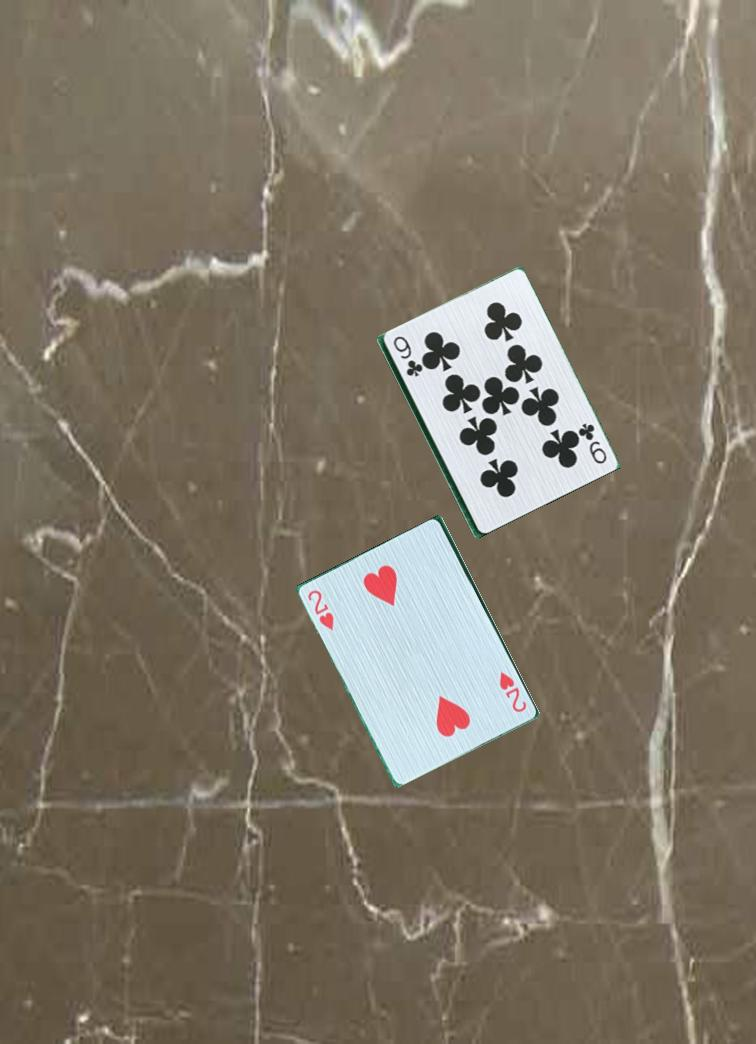2h: (304, 586, 339, 636), (496, 668, 530, 716)
9c: (571, 417, 609, 467), (389, 332, 422, 380)
